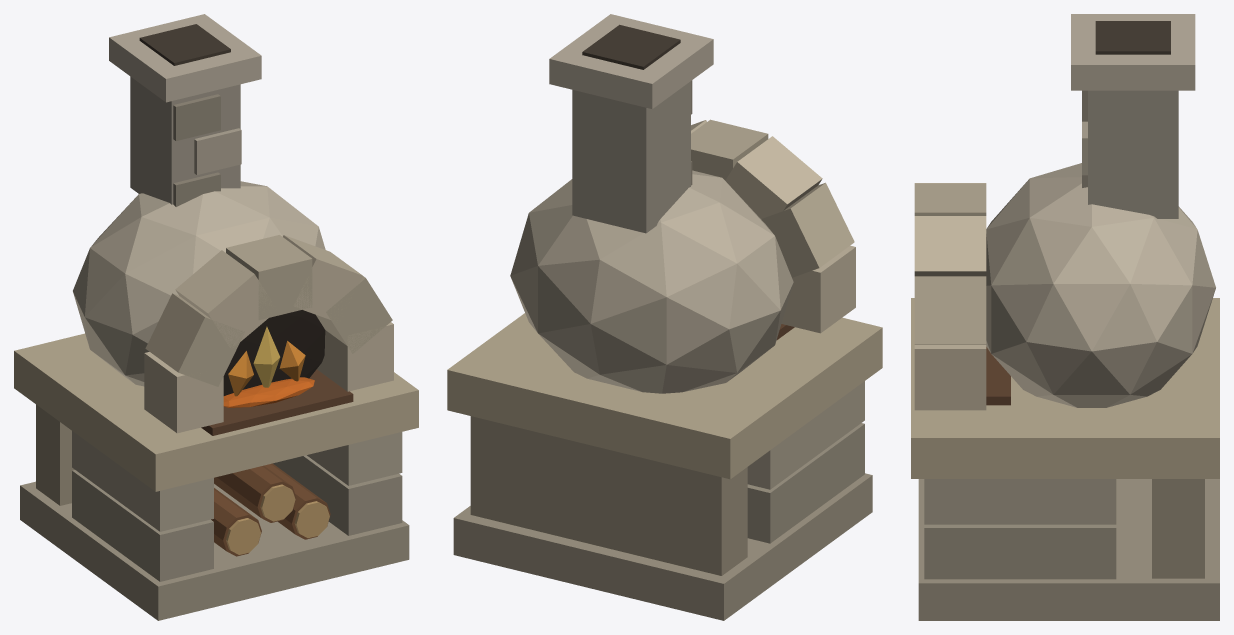
The model's file is stone-oven.gltf.
3 renders of one model, left to right at view 1: azimuth 30°, elevation 25°; view 2: azimuth 150°, elevation 25°; view 3: azimuth 270°, elevation 25°, orthographic. The views are drawn at different scales.
Parts seen in each view (by area): view 1: stone-oven; view 2: stone-oven; view 3: stone-oven.
Part boxes in pixels (bbox=[...]): stone-oven: bbox=[14, 14, 418, 620]; stone-oven: bbox=[447, 14, 882, 620]; stone-oven: bbox=[911, 14, 1219, 620].
Size of the model in its own units: 0.88 by 1.52 by 0.82.
